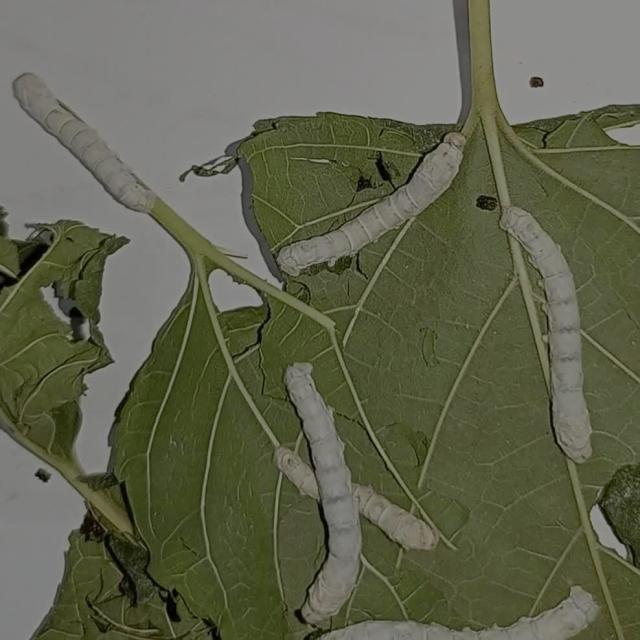Healthy: (263, 101, 473, 275), (492, 205, 624, 474), (0, 47, 188, 231)
